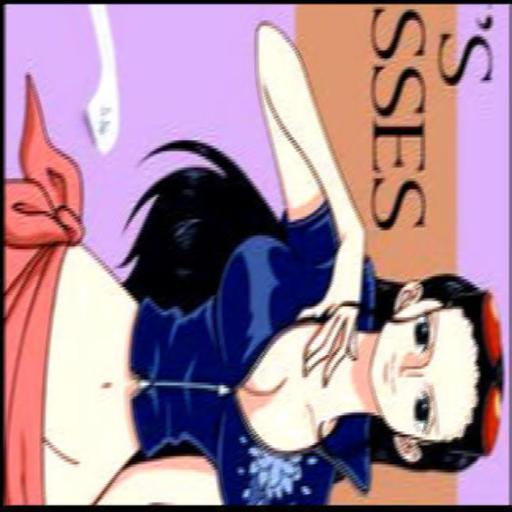NicoRobin: (4, 14, 502, 506)
